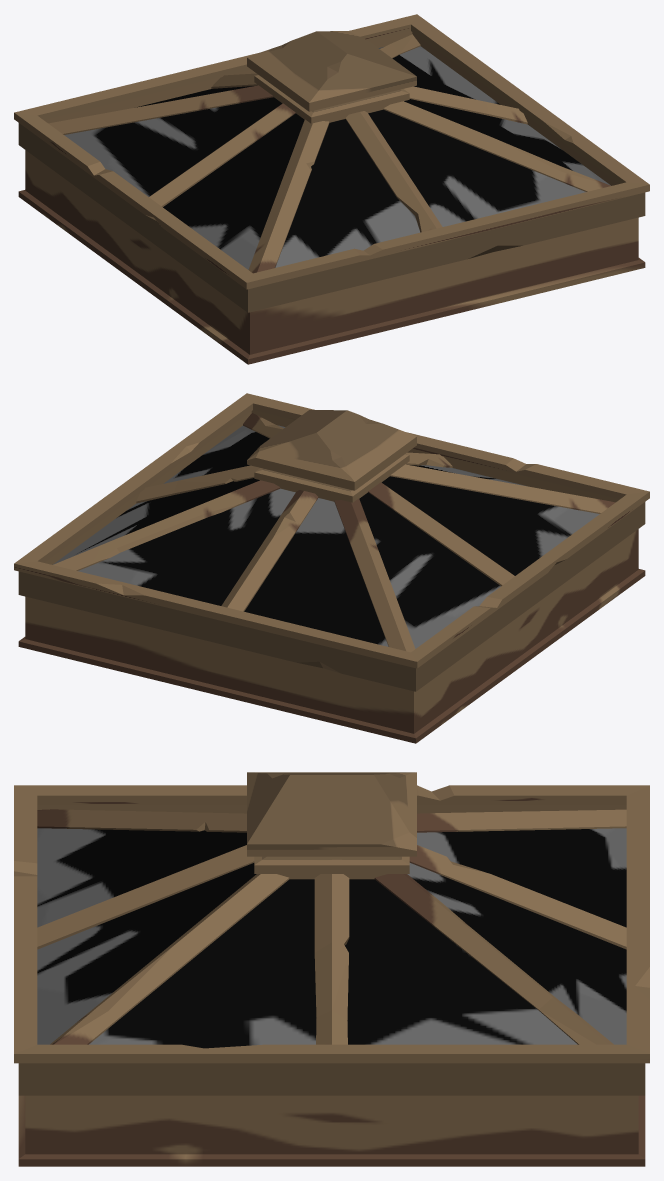
File: SM_Bld_Skylight_01.fbx
3 views of the same model, one above another, from view 1: azimuth 30°, elevation 25°; view 2: azimuth 150°, elevation 25°; view 3: azimuth 270°, elevation 25° (orthographic). The views are drawn at different scales.
Visible parts, largest first — view 1: SM_Bld_Skylight_01; view 2: SM_Bld_Skylight_01; view 3: SM_Bld_Skylight_01.
Boxes of the visible parts, box(x1,y1,x2,y2) form: SM_Bld_Skylight_01: box(14, 14, 649, 364); SM_Bld_Skylight_01: box(14, 393, 649, 743); SM_Bld_Skylight_01: box(14, 772, 649, 1166).
Bounding box in the file's own units: 519 × 233 × 519.
